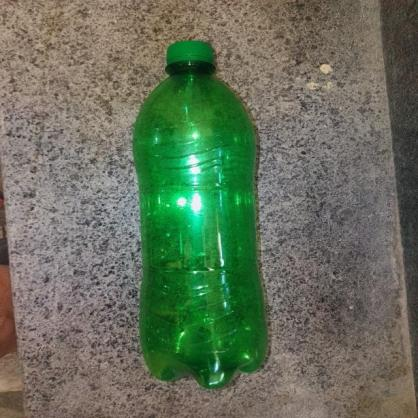bottle: (126, 32, 287, 392)
cap: (161, 38, 223, 74)
